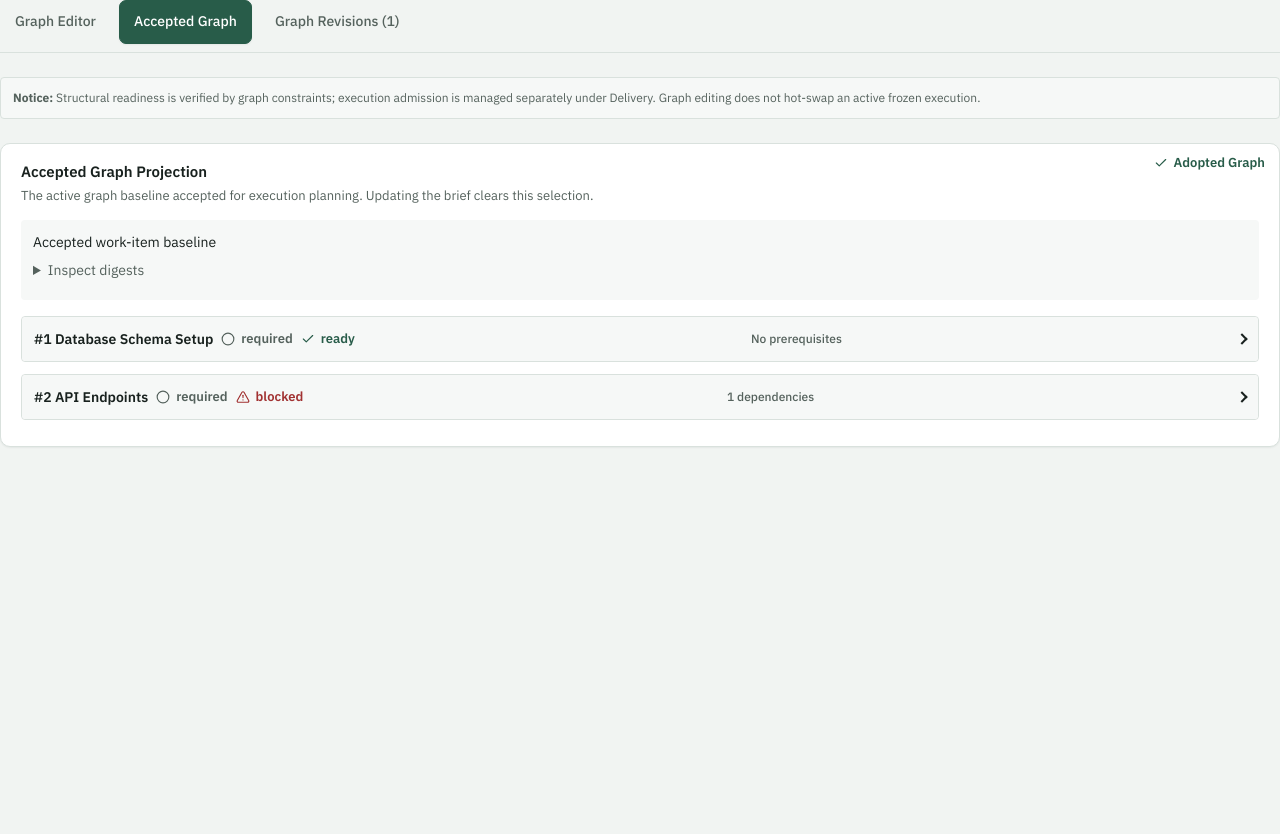
Test case: GraphEditor › an incomplete new item cannot be sent until its title, outcome, criteria and source are complete
Click the button "Graph Editor" at (56, 22), box [0,0,111,44]
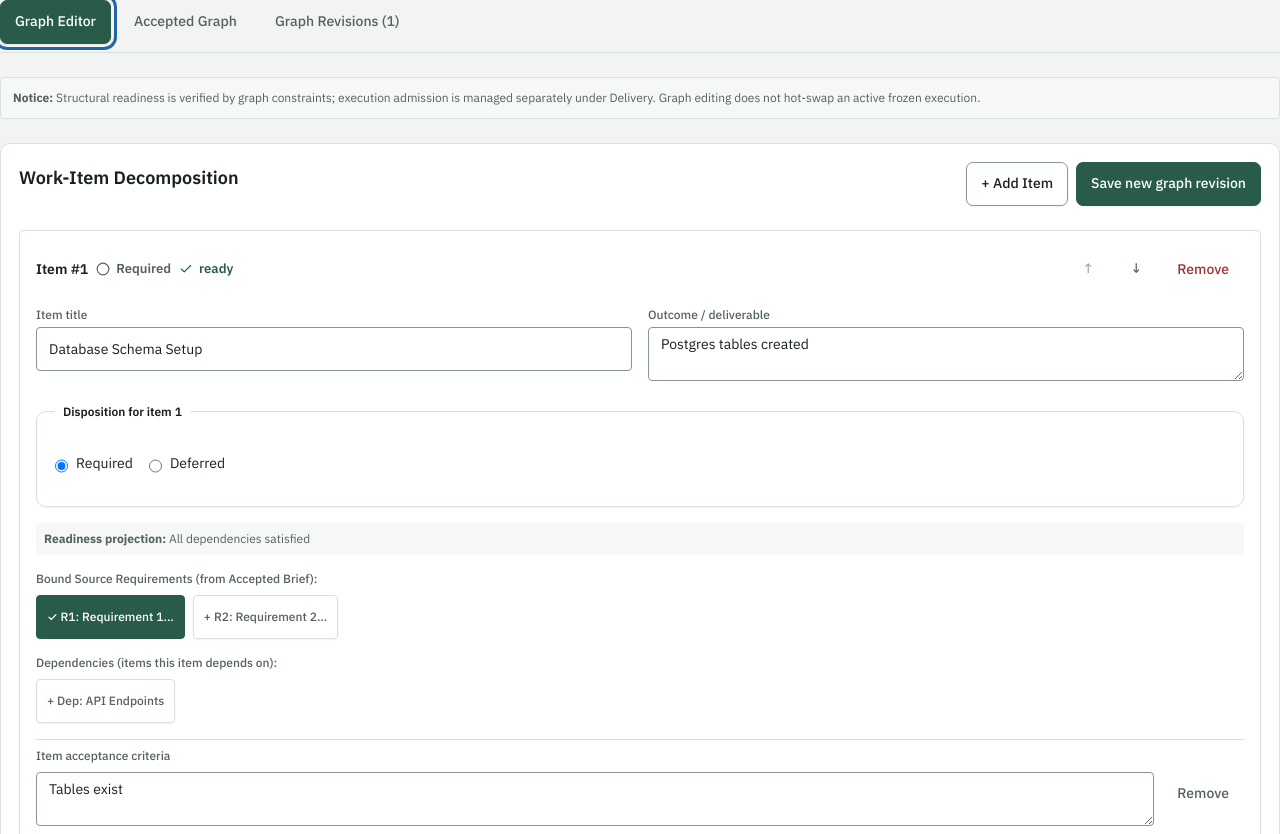
Expected: the field showing "Database Schema Setup" is shown, [36,327,632,371]
Click the button "+ Add Item" at (1017, 184), box [966,162,1068,206]
(page scrolled)
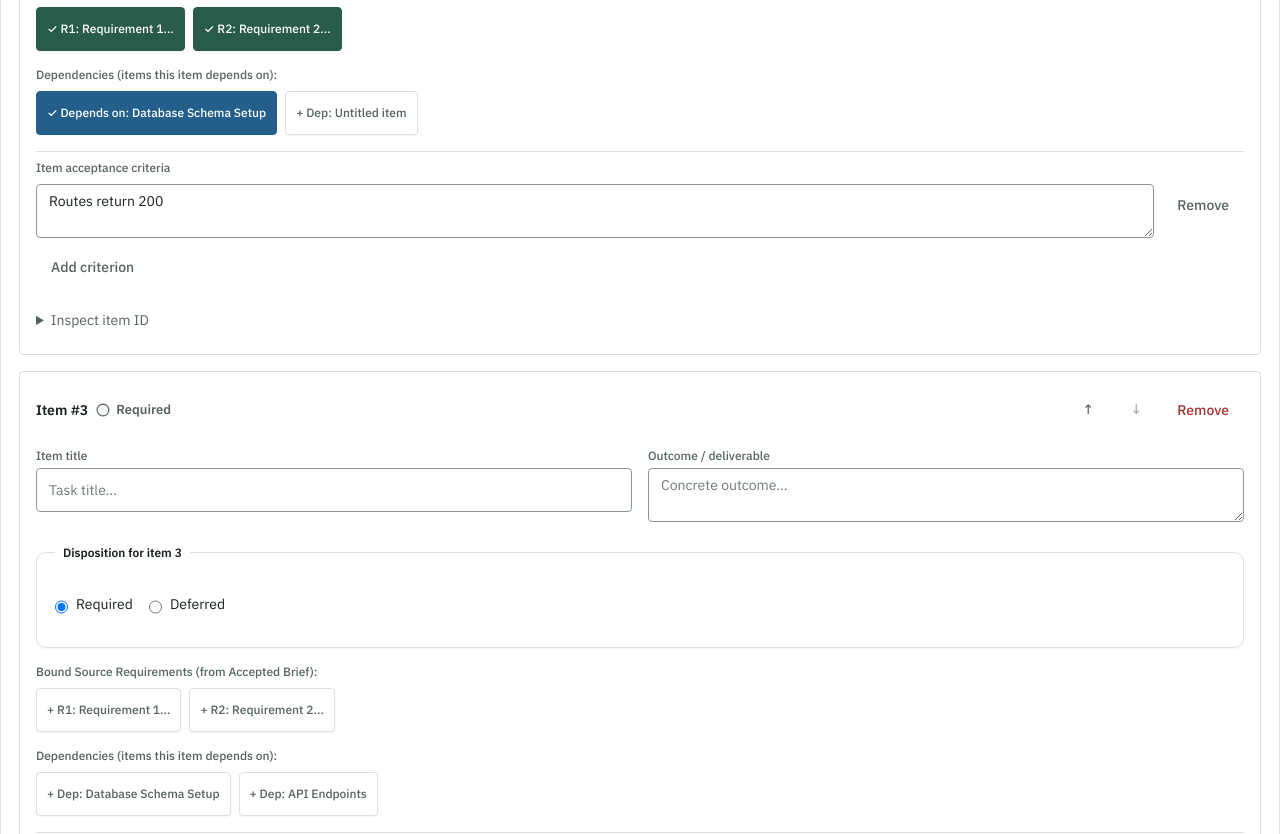
Type "New item" into the field named "Item title 3" at (334, 490), box [36,468,632,512]
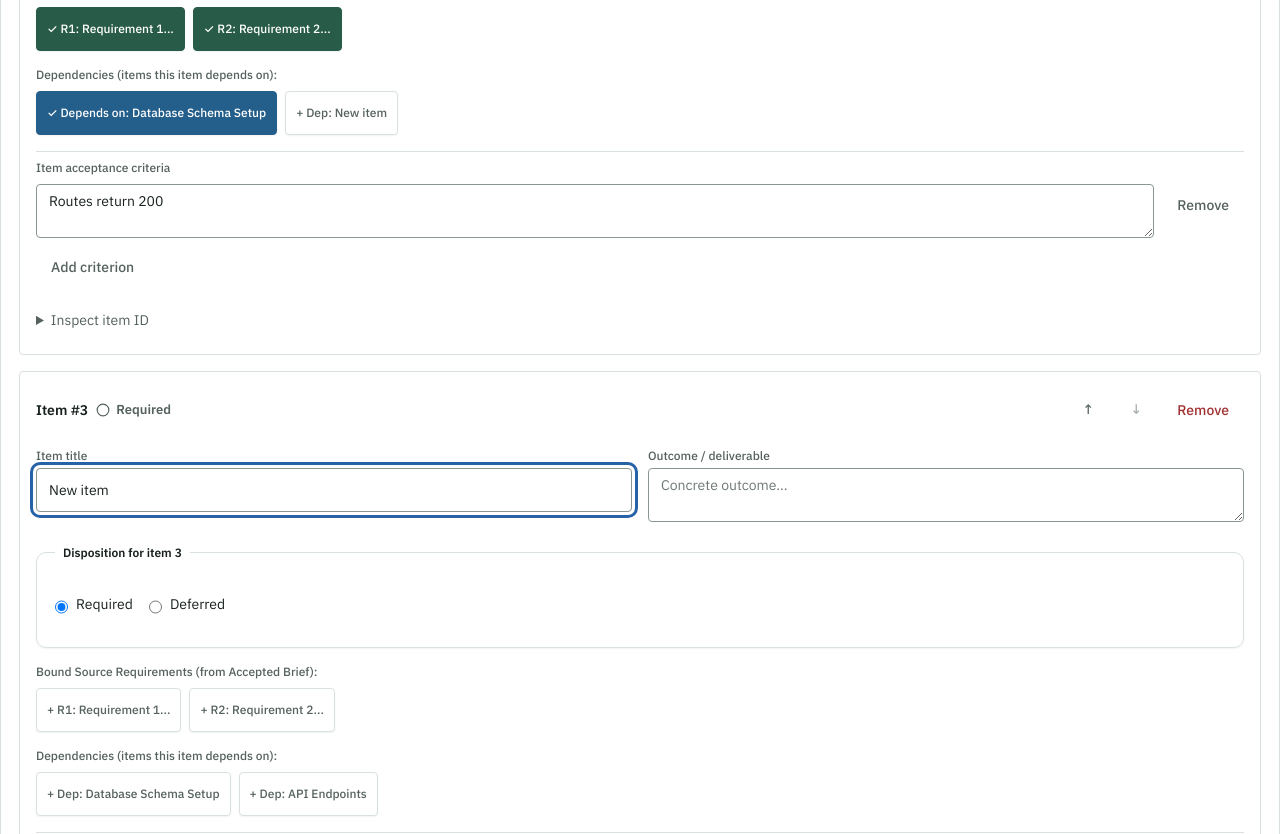
Type "Bounded outcome" into the text box named "Item outcome 3" at (946, 495), box [648,468,1244,522]
(page scrolled)
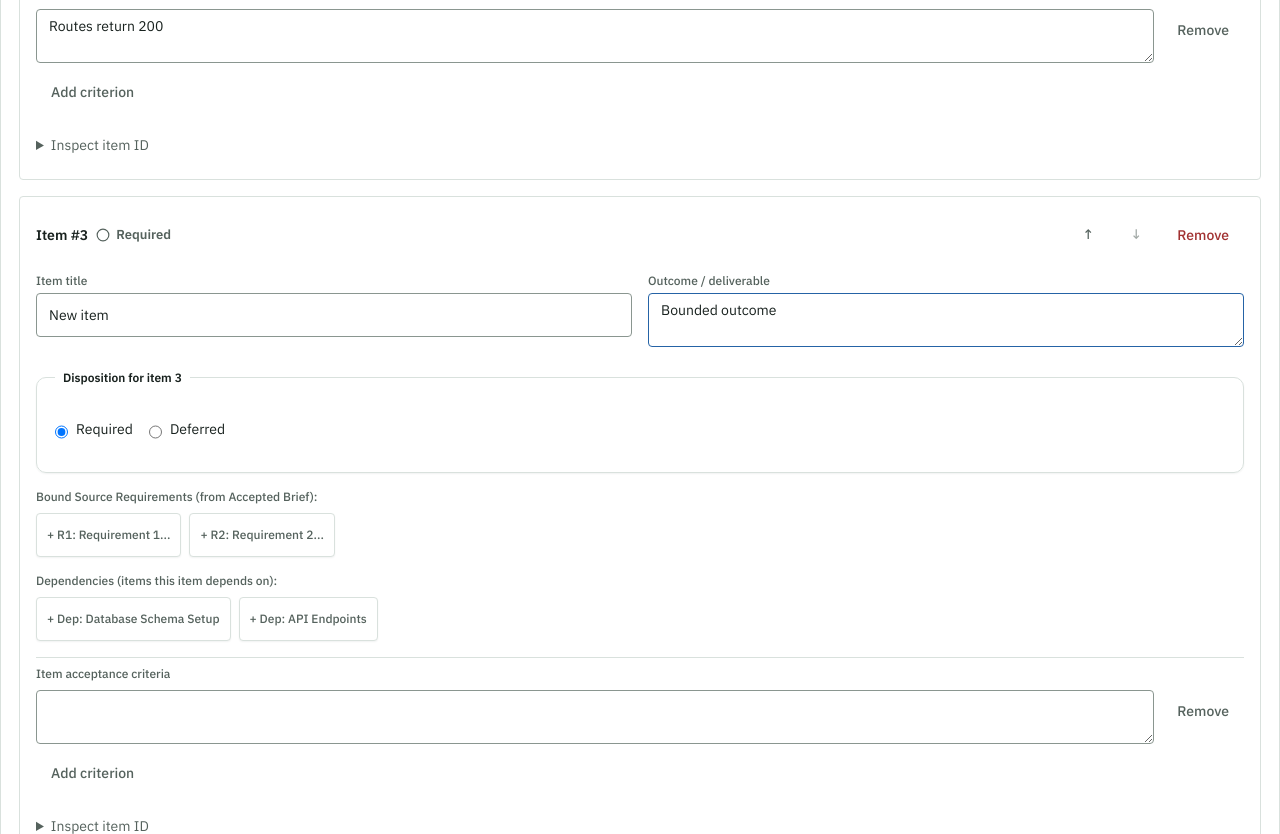
Type "Verifiable result" into the text box named "Criterion 1 for item 3" at (595, 717), box [36,690,1154,744]
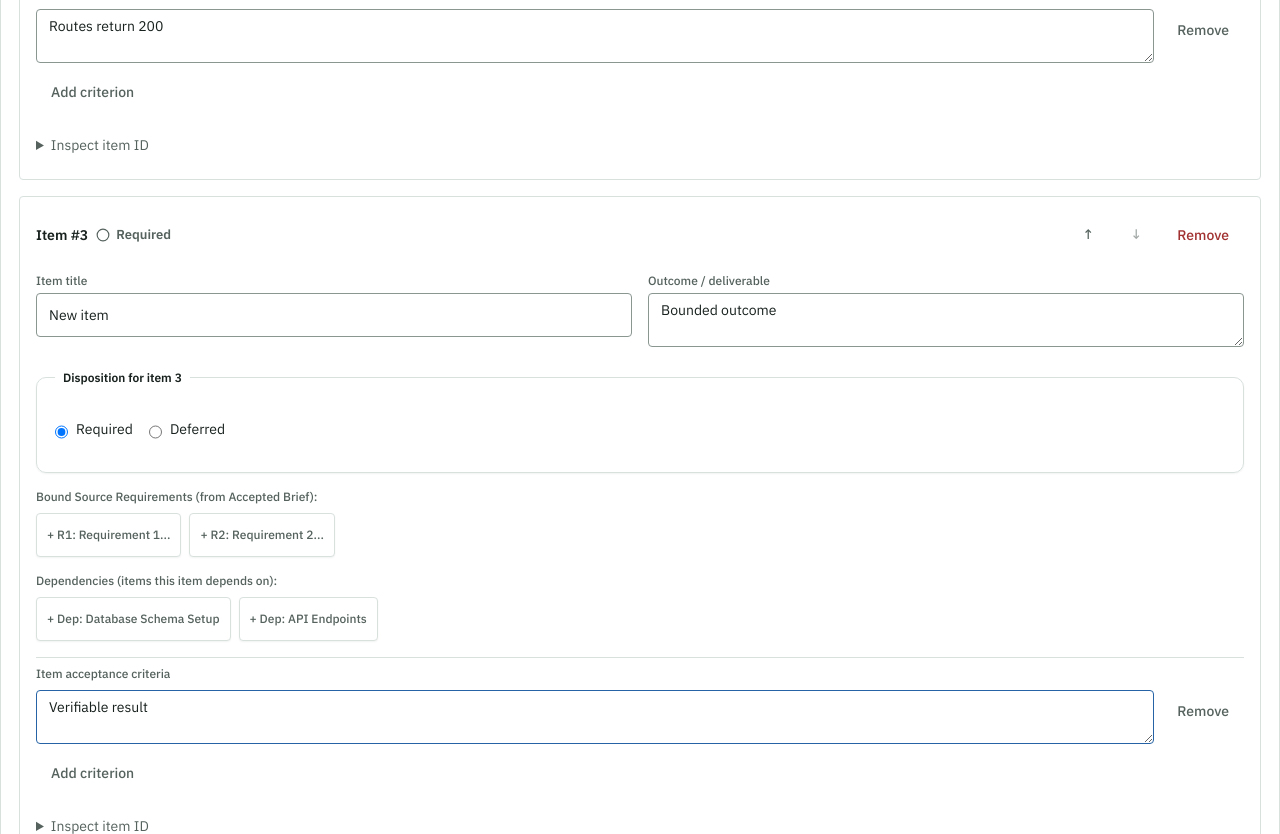
Click the button "+ R2: Requirement 2..." at (262, 535), box [189,513,335,557]
(page scrolled)
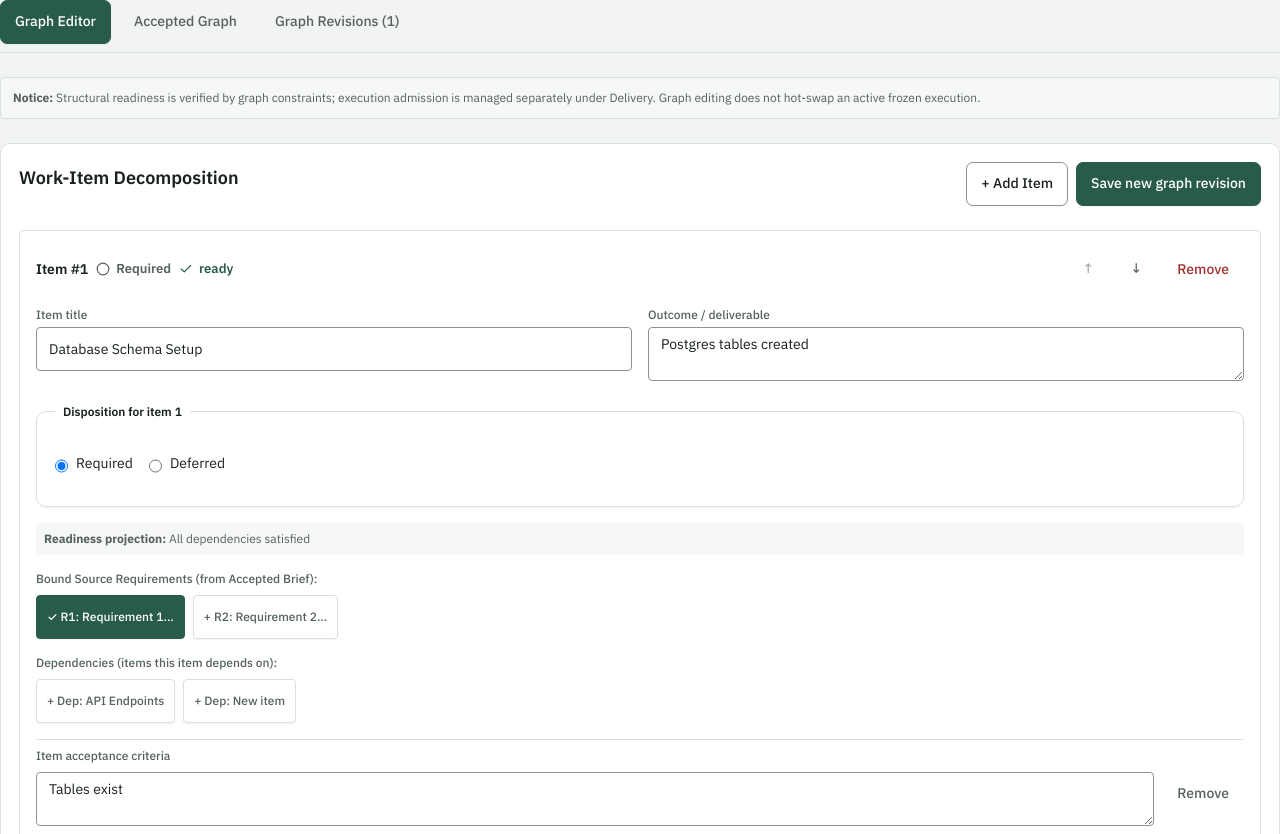
Expected: the button "Save new graph revision" is enabled, [1076,162,1261,206]
